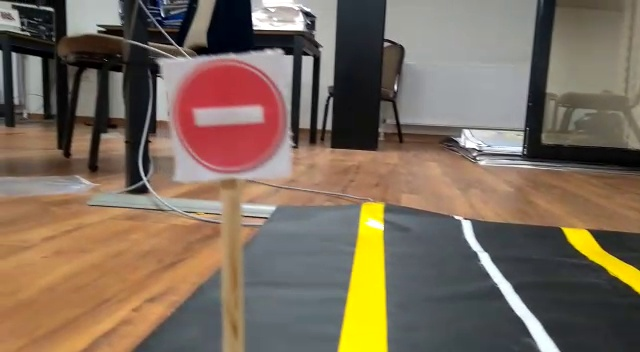girisi_olmayan_yol: (167, 55, 292, 174)
